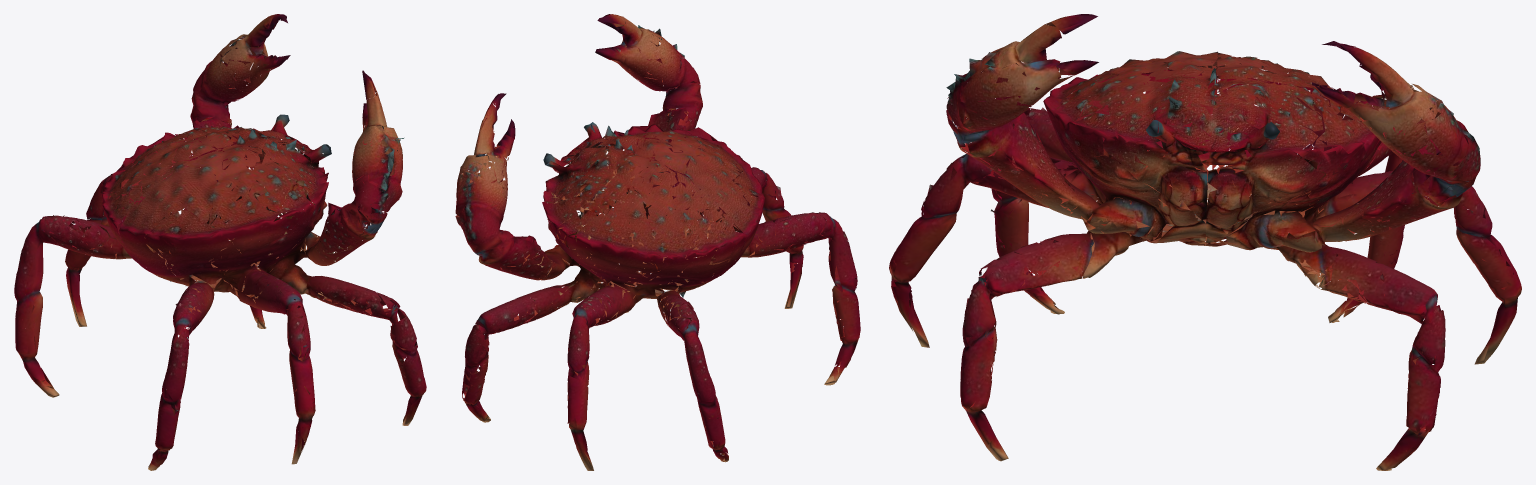
Rendered from crab.glb.
3 renders of one model, left to right at view 1: azimuth 30°, elevation 25°; view 2: azimuth 150°, elevation 25°; view 3: azimuth 270°, elevation 25°, orthographic. The views are drawn at different scales.
Visible parts, largest first — view 1: tripo_node_6af0f101_tripo_mat_6af0f101_0; view 2: tripo_node_6af0f101_tripo_mat_6af0f101_0; view 3: tripo_node_6af0f101_tripo_mat_6af0f101_0.
Boxes of the visible parts, left/top/right/bottom form: tripo_node_6af0f101_tripo_mat_6af0f101_0: left=14, top=14, right=426, bottom=470; tripo_node_6af0f101_tripo_mat_6af0f101_0: left=455, top=14, right=860, bottom=470; tripo_node_6af0f101_tripo_mat_6af0f101_0: left=889, top=14, right=1521, bottom=470.
Size of the model in its own units: 0.6287 by 0.7841 by 1.
Materials: 1 (1 with a texture image).
